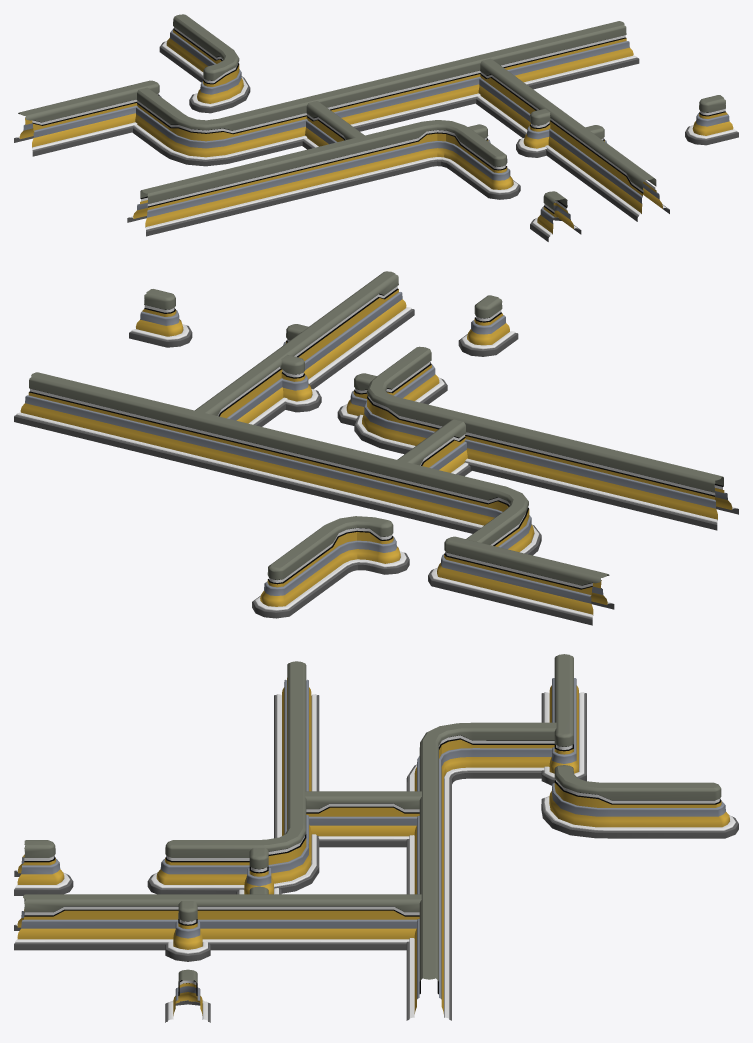
The model's file is Small walls.fbx.
3 views of the same model, one above another, from view 1: azimuth 30°, elevation 25°; view 2: azimuth 150°, elevation 25°; view 3: azimuth 270°, elevation 25° (orthographic). The views are drawn at different scales.
Visible parts, largest first — view 1: Small_wall_L55, Small_wall_L53, Small_wallv1_20, Small_wallv1_23, Small_wall_L107, Small_wallv1_97, Small_wallv1_31, Small_wallv1_93, Small_wallv1_95; view 2: Small_wall_L55, Small_wall_L53, Small_wallv1_20, Small_wallv1_23, Small_wall_L107, Small_wallv1_97, Small_wallv1_31, Small_wallv1_93, Small_wallv1_95, Small_wallv1_94; view 3: Small_wallv1_20, Small_wall_L55, Small_wall_L53, Small_wall_L107, Small_wallv1_31, Small_wallv1_23, Small_wallv1_93, Small_wallv1_96, Small_wallv1_97, Small_wallv1_94.
Part boxes in pixels (box(x1,y1,x2,y2)): Small_wall_L55: box(132, 21, 639, 166); Small_wall_L53: box(127, 120, 520, 236); Small_wallv1_20: box(476, 58, 669, 221); Small_wallv1_23: box(14, 80, 161, 156); Small_wall_L107: box(159, 14, 250, 113); Small_wallv1_97: box(685, 95, 738, 145); Small_wallv1_31: box(302, 101, 364, 149); Small_wallv1_93: box(530, 191, 581, 241); Small_wallv1_95: box(516, 108, 550, 157); Small_wall_L55: box(14, 372, 541, 555); Small_wall_L53: box(354, 346, 738, 530); Small_wallv1_20: box(195, 271, 414, 426); Small_wallv1_23: box(428, 536, 614, 625); Small_wall_L107: box(252, 516, 409, 618); Small_wallv1_97: box(129, 289, 192, 347); Small_wallv1_31: box(397, 419, 471, 476); Small_wallv1_93: box(458, 295, 518, 356); Small_wallv1_95: box(280, 355, 321, 412); Small_wallv1_94: box(337, 373, 376, 425); Small_wallv1_20: box(14, 894, 421, 950); Small_wall_L55: box(406, 722, 556, 1020); Small_wall_L53: box(147, 661, 319, 894); Small_wall_L107: box(541, 765, 738, 838); Small_wallv1_31: box(305, 791, 421, 847); Small_wallv1_23: box(541, 654, 586, 785); Small_wallv1_93: box(14, 840, 73, 895); Small_wallv1_96: box(165, 901, 210, 961); Small_wallv1_97: box(165, 969, 210, 1022); Small_wallv1_94: box(236, 848, 281, 894).
Bounding box in the file's own units: 592 × 39.06 × 551.
